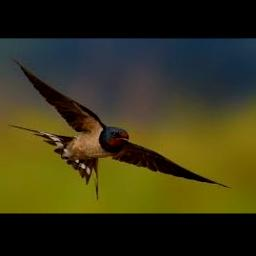Swallow: (7, 55, 231, 199)
